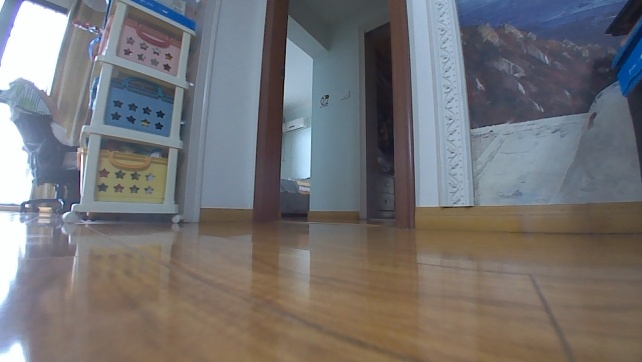bed1: (279, 175, 309, 214)
